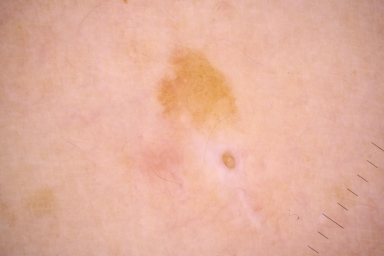nevus: (158, 49, 241, 126)
